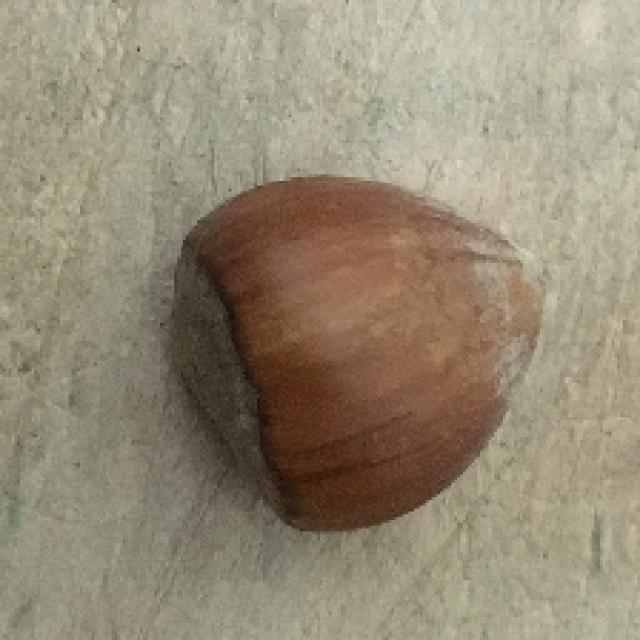qualityHazelnut: (170, 170, 548, 541)
